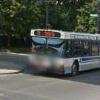Bus: (29, 25, 100, 75)
